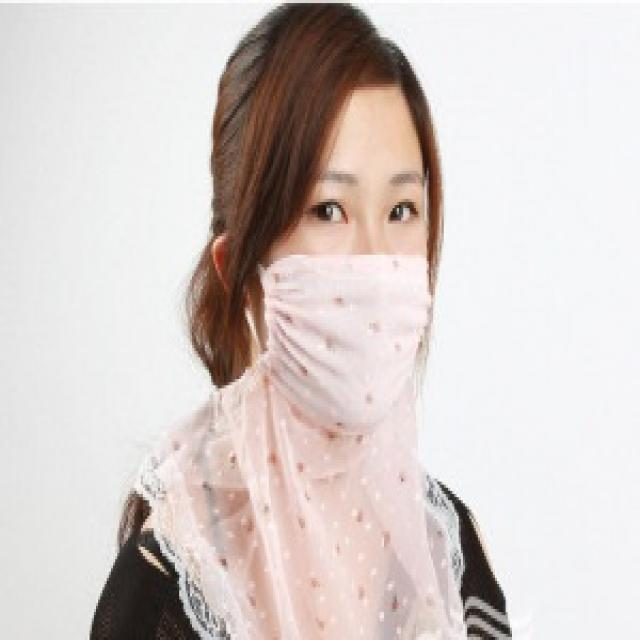mask: (259, 149, 432, 398)
